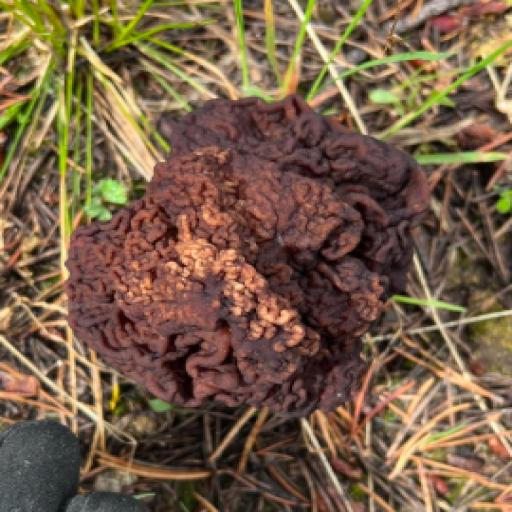False Morel: (53, 55, 448, 457)
